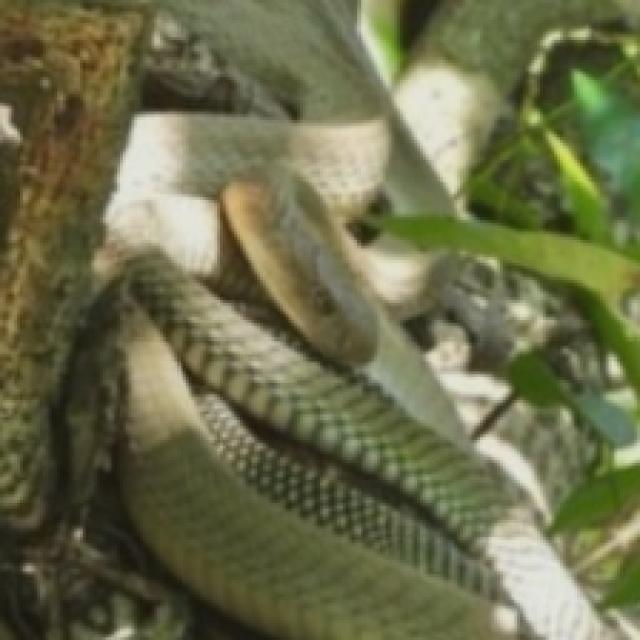king cobra: (97, 280, 491, 637), (277, 180, 474, 457)
